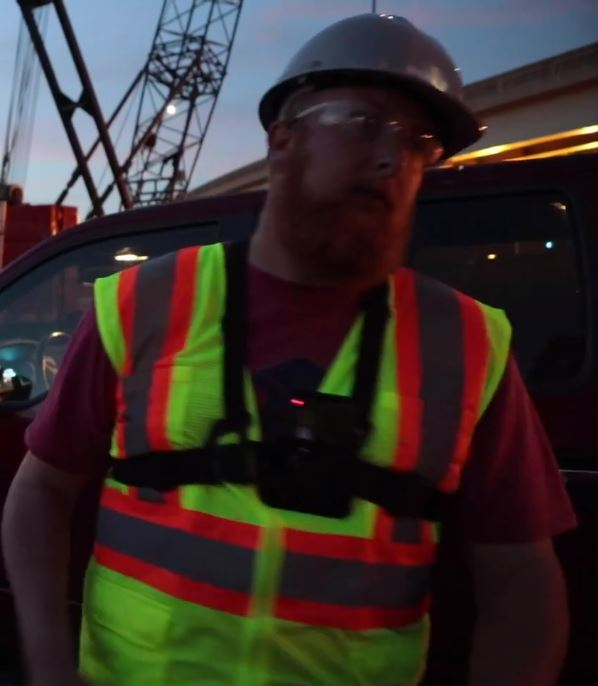Safety Helmet: (248, 7, 488, 280)
